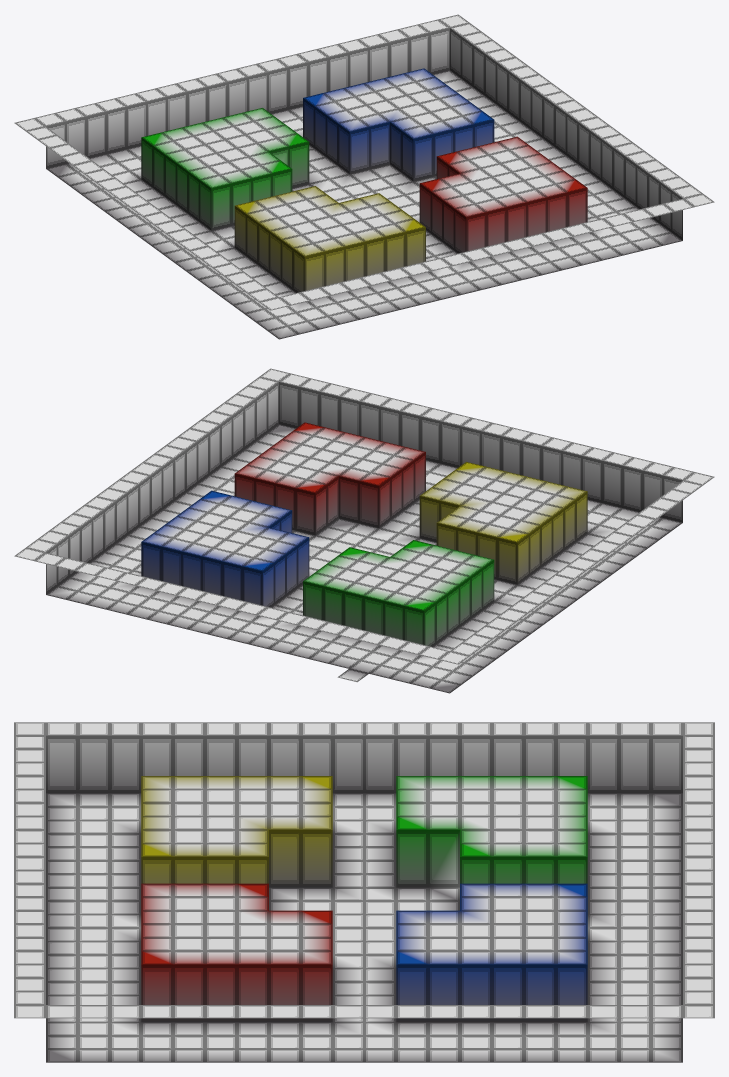
File: testMaze.glb
3 renders of one model, top to bottom at view 1: azimuth 30°, elevation 25°; view 2: azimuth 150°, elevation 25°; view 3: azimuth 270°, elevation 25°, orthographic. The views are drawn at different scales.
Bounding box in the file's own units: 22 × 2 × 22.
Materials: 1 (1 with a texture image).
